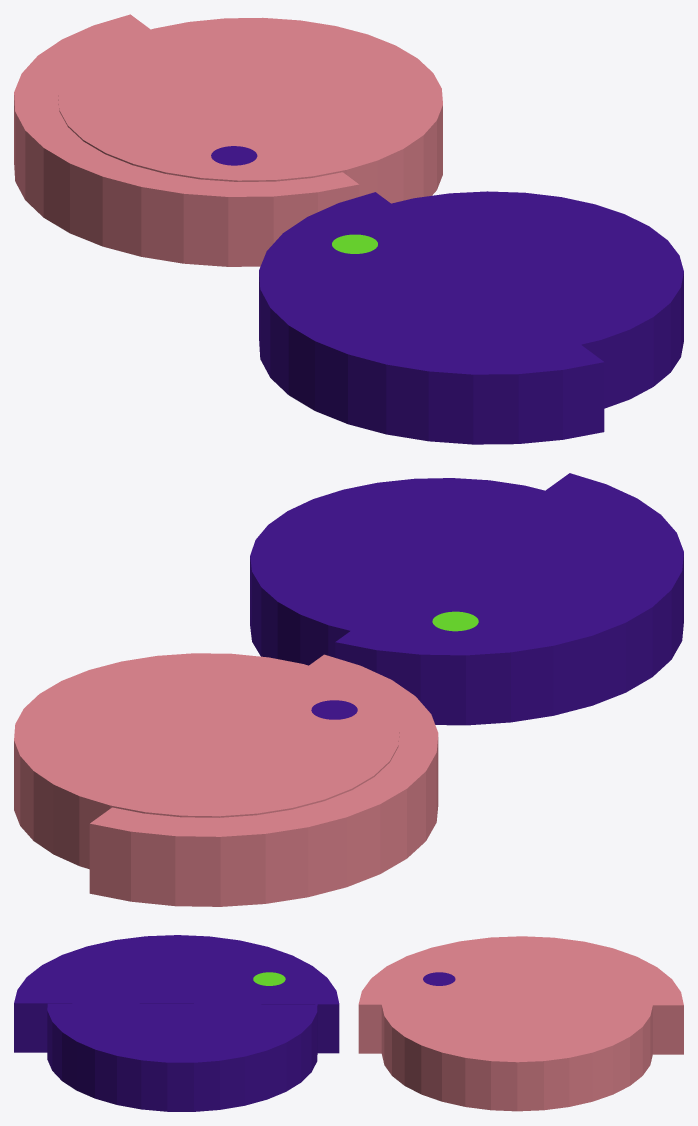
File: audacia.fbx
3 views of the same model, one above another, from view 1: azimuth 30°, elevation 25°; view 2: azimuth 150°, elevation 25°; view 3: azimuth 270°, elevation 25° (orthographic). The views are drawn at different scales.
Visible parts, largest first — view 1: Cylinder.026; view 2: Cylinder.026; view 3: Cylinder.026.
Part boxes in pixels (box(x1,y1,x2,y2)): Cylinder.026: box(14, 14, 683, 444); Cylinder.026: box(14, 473, 683, 906); Cylinder.026: box(14, 935, 683, 1111).
Size of the model in its own units: 557 by 104 by 1235.
